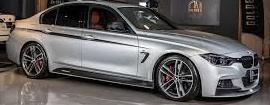Cars: (7, 3, 261, 102)
